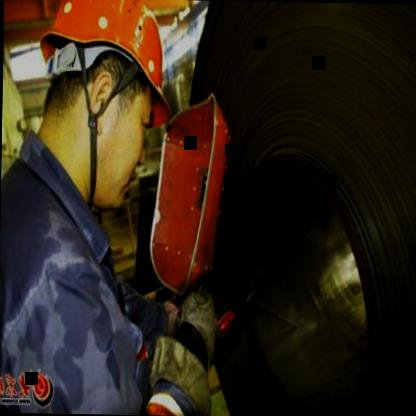helmet: (36, 0, 174, 212)
